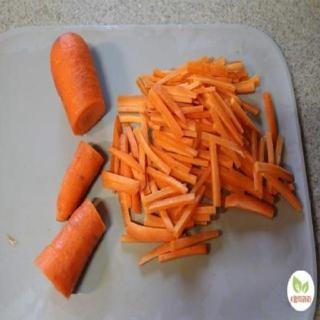carrot: (34, 197, 108, 305), (49, 29, 109, 138), (54, 142, 106, 220)
